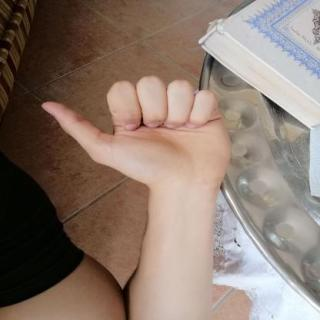DAD: (30, 68, 242, 195)
